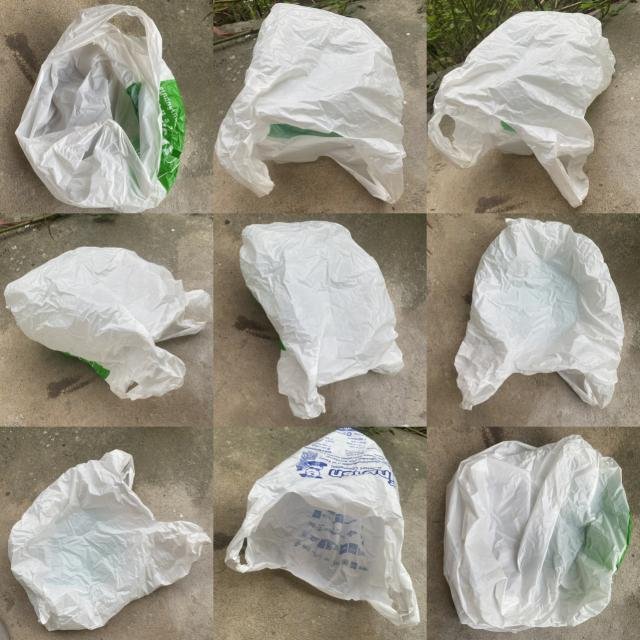Single-layer Plastic: (225, 428, 419, 628), (215, 4, 405, 204), (444, 435, 630, 632), (429, 11, 615, 207), (9, 450, 210, 630), (16, 5, 185, 212), (240, 221, 404, 419), (455, 219, 624, 409), (4, 248, 212, 399)
